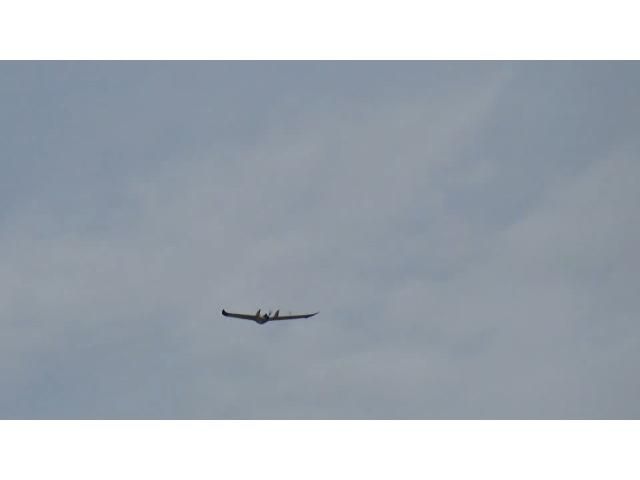Anti-Drone: (224, 310, 320, 326)
